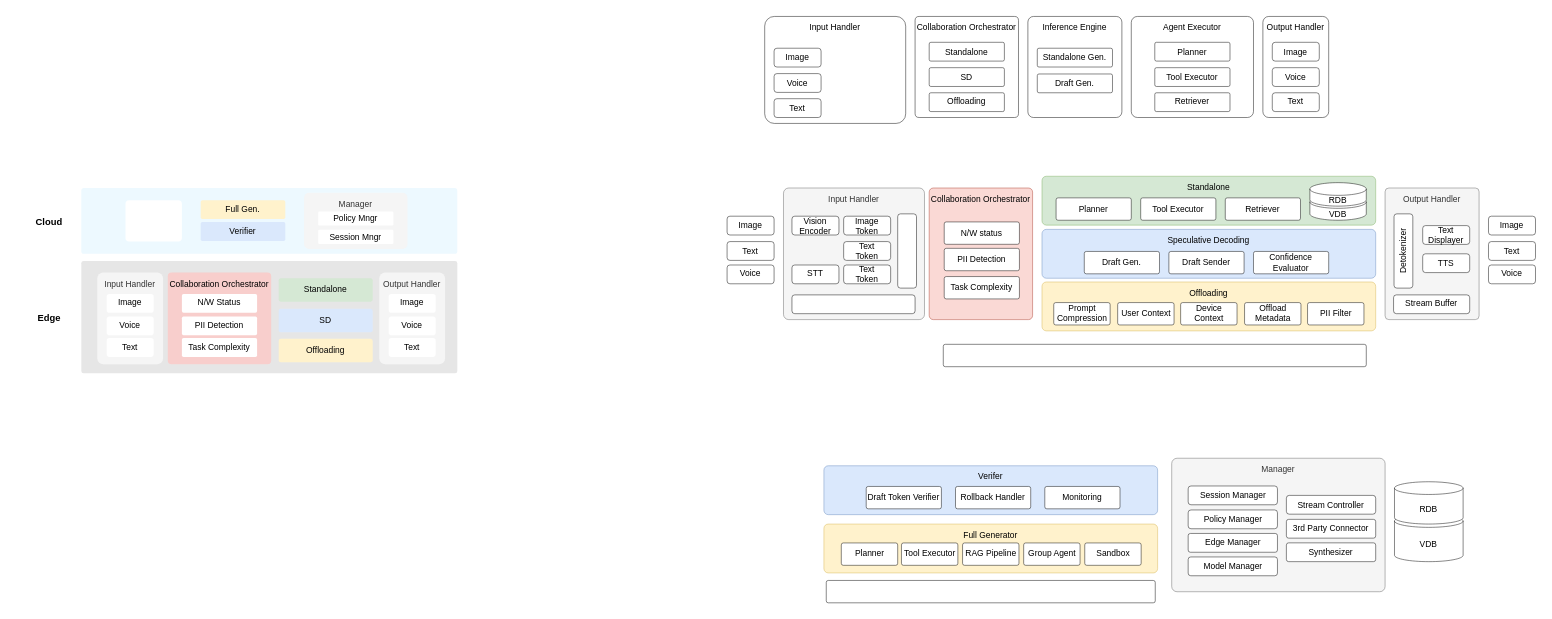
This 1552x619 diagram has some shape labels left out. Each missing label, with the centre of its shape:
Large Language Model: pixel 990 591
LLM: pixel 153 220
Small Language Model: pixel 1154 355
Token Aggregator: pixel 906 250
Token Buffer: pixel 853 303
